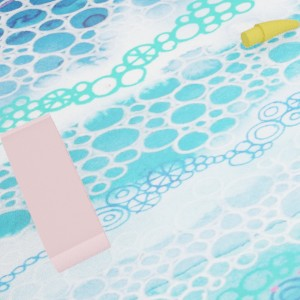lego: (0, 112, 111, 273), (240, 19, 300, 47)
